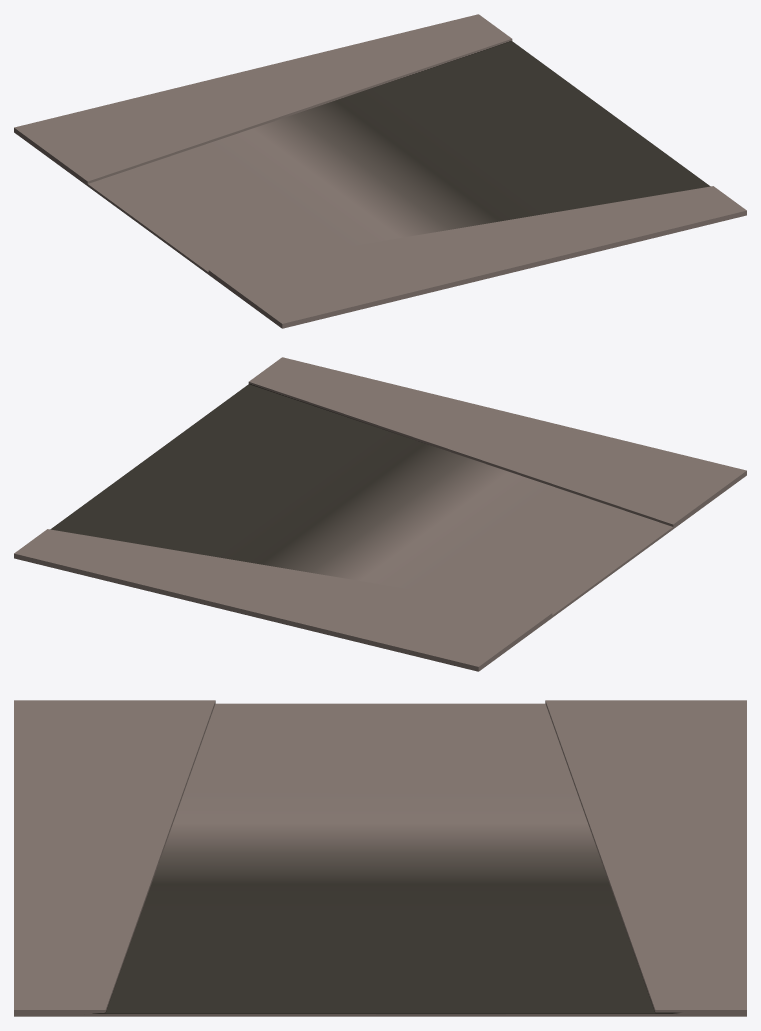
File: Env_2lane_To_1lane_col.fbx
3 renders of one model, top to bottom at view 1: azimuth 30°, elevation 25°; view 2: azimuth 150°, elevation 25°; view 3: azimuth 270°, elevation 25°, orthographic. The views are drawn at different scales.
Visible parts, largest first — view 1: Env_2lane_To_1lane_col; view 2: Env_2lane_To_1lane_col; view 3: Env_2lane_To_1lane_col.
Part boxes in pixels (x1,y1,x2,y2): Env_2lane_To_1lane_col: [14, 14, 746, 328]; Env_2lane_To_1lane_col: [14, 357, 746, 671]; Env_2lane_To_1lane_col: [14, 700, 746, 1016].
Size of the model in its own units: 2000 by 20 by 2000.
